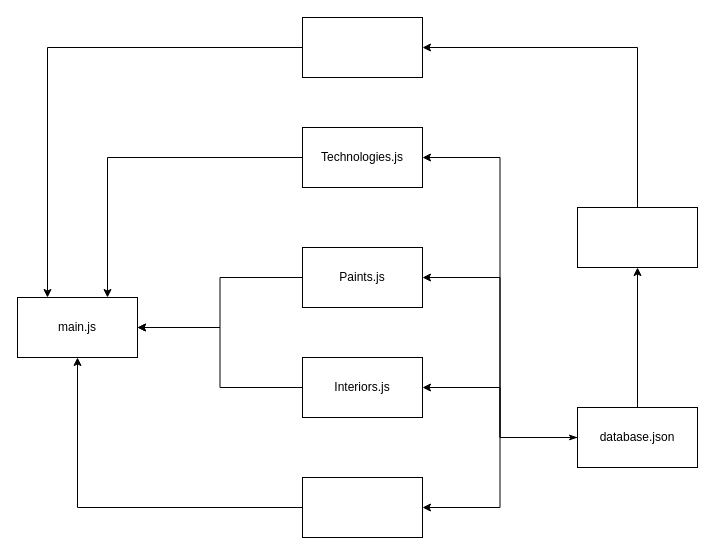
Some shapes in this 715 by 555 pixel diagram are drawn without their labels. The centre of each missing label's shape, as x and y in pixels:
"Orders.js" belongs at point (362, 47).
"TransientState.js" belongs at point (637, 237).
"Wheels.js" belongs at point (362, 507).
